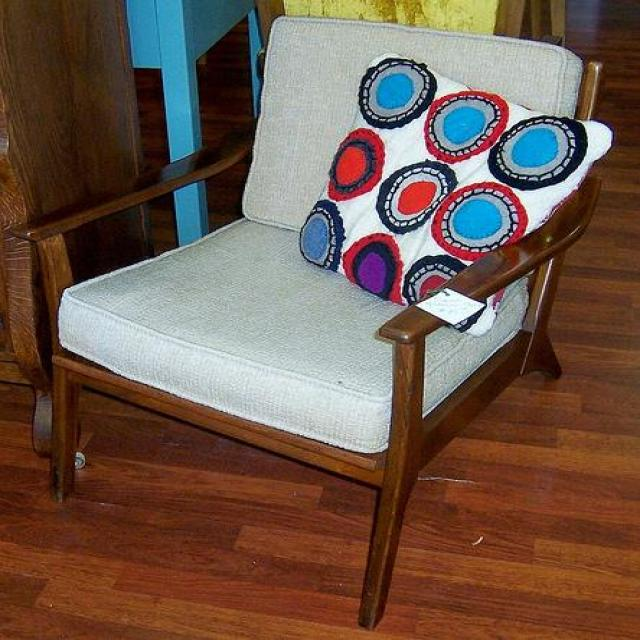chair: (11, 16, 607, 634)
